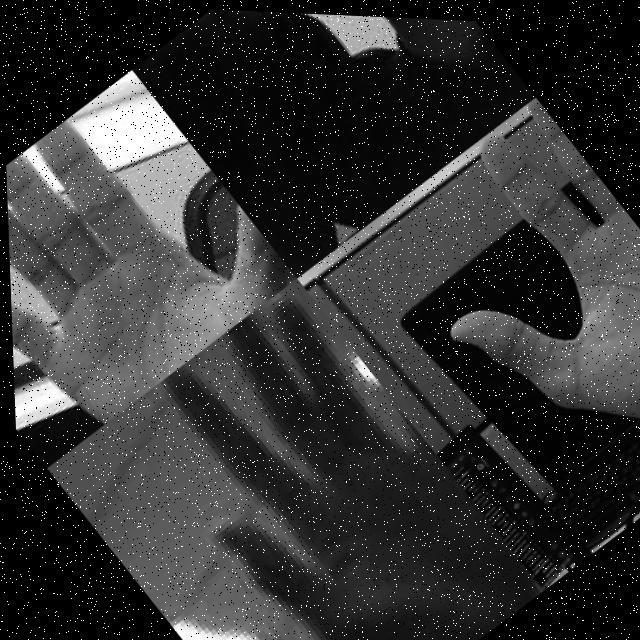no-gloves: (104, 268, 540, 640), (353, 84, 640, 506), (2, 63, 299, 459), (255, 9, 455, 80)
